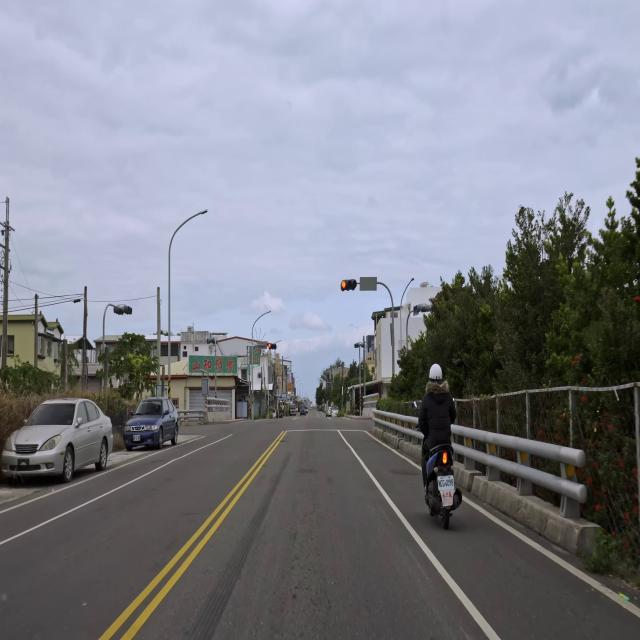red light: (341, 279, 356, 291), (268, 344, 276, 349)
